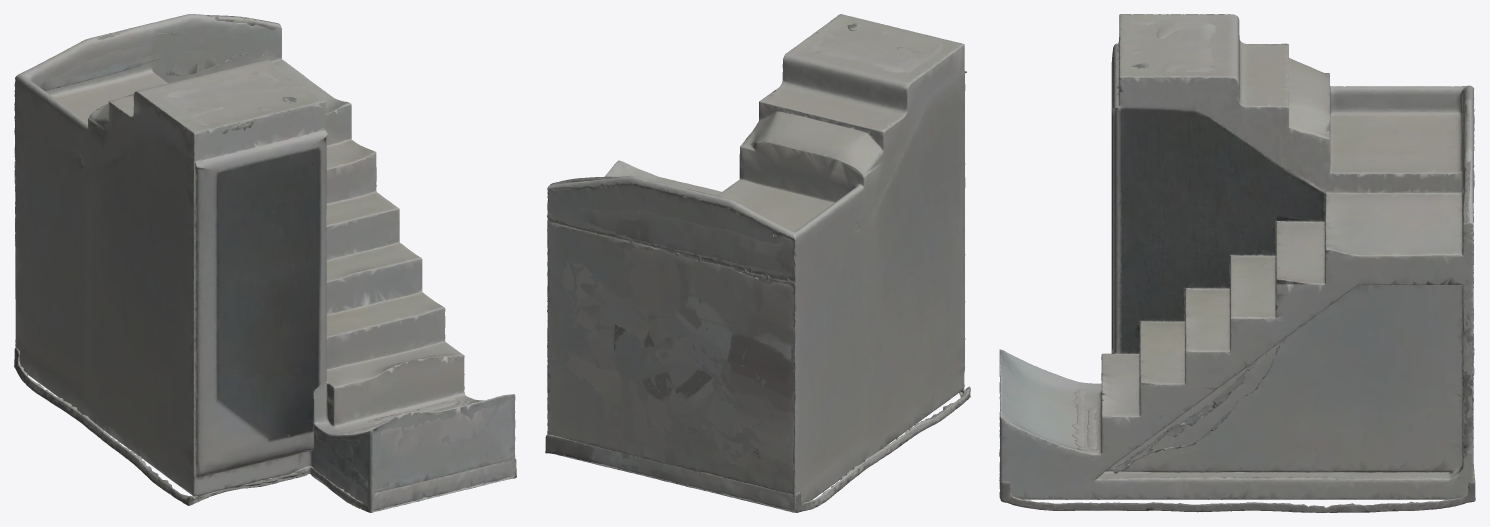
The model's file is Impossible.glb.
3 renders of one model, left to right at view 1: azimuth 30°, elevation 25°; view 2: azimuth 150°, elevation 25°; view 3: azimuth 270°, elevation 25°, orthographic. The views are drawn at different scales.
Parts seen in each view (by area): view 1: texture_mapping; view 2: texture_mapping; view 3: texture_mapping.
Part boxes in pixels (x1,y1,x2,y2): texture_mapping: [14, 14, 516, 512]; texture_mapping: [545, 14, 970, 512]; texture_mapping: [999, 14, 1475, 512].
Size of the model in its own units: 0.6675 by 0.8608 by 1.
1 material, 1 textured.
